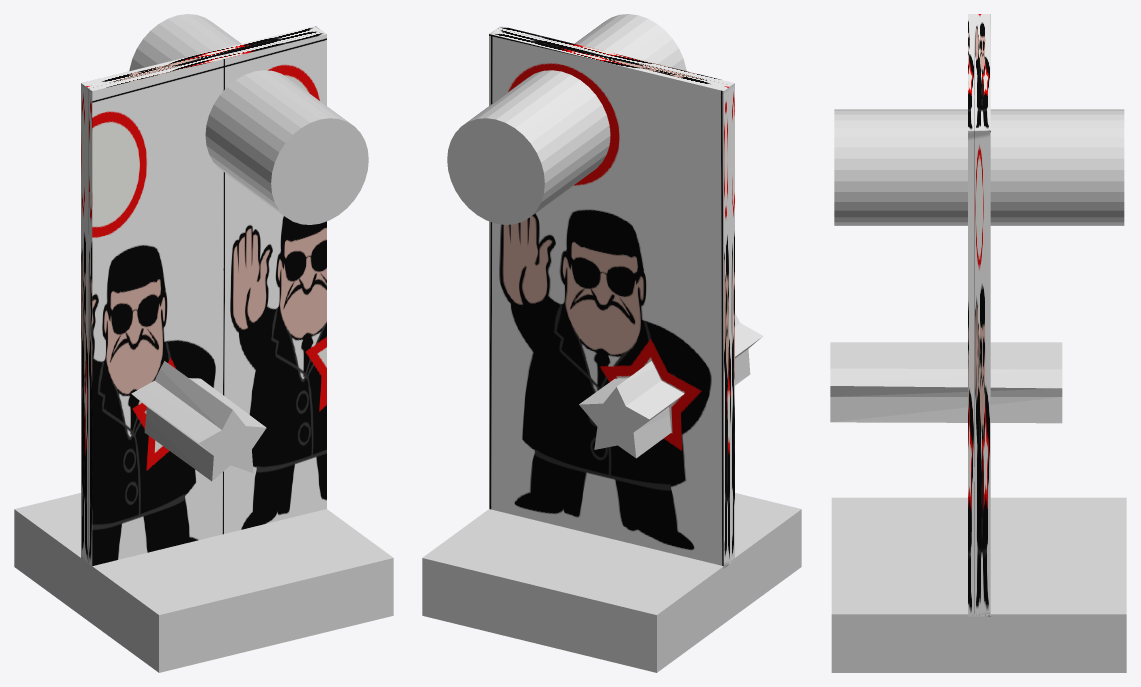
The model's file is gman.dae.
3 renders of one model, left to right at view 1: azimuth 30°, elevation 25°; view 2: azimuth 150°, elevation 25°; view 3: azimuth 270°, elevation 25°, orthographic.
Parts seen in each view (by area): view 1: Cube.001, Cube, Cylinder, Cylinder.001; view 2: Cube.001, Cube, Cylinder, Cylinder.001; view 3: Cube, Cylinder, Cylinder.001, Cube.001.
Part boxes in pixels (<box>): Cube.001: <box>81,26,326,567</box>; Cube: <box>14,493,393,672</box>; Cylinder: <box>129,14,368,224</box>; Cylinder.001: <box>131,361,266,481</box>; Cube.001: <box>489,26,734,568</box>; Cube: <box>422,493,801,672</box>; Cylinder: <box>447,14,686,224</box>; Cylinder.001: <box>579,313,762,458</box>; Cube: <box>831,497,1126,672</box>; Cylinder: <box>834,109,1124,225</box>; Cylinder.001: <box>830,342,1062,423</box>; Cube.001: <box>968,14,990,616</box>.
Bounding box in the file's own units: 2 × 2.15 × 4.34.
Materials: 1 (1 with a texture image).
